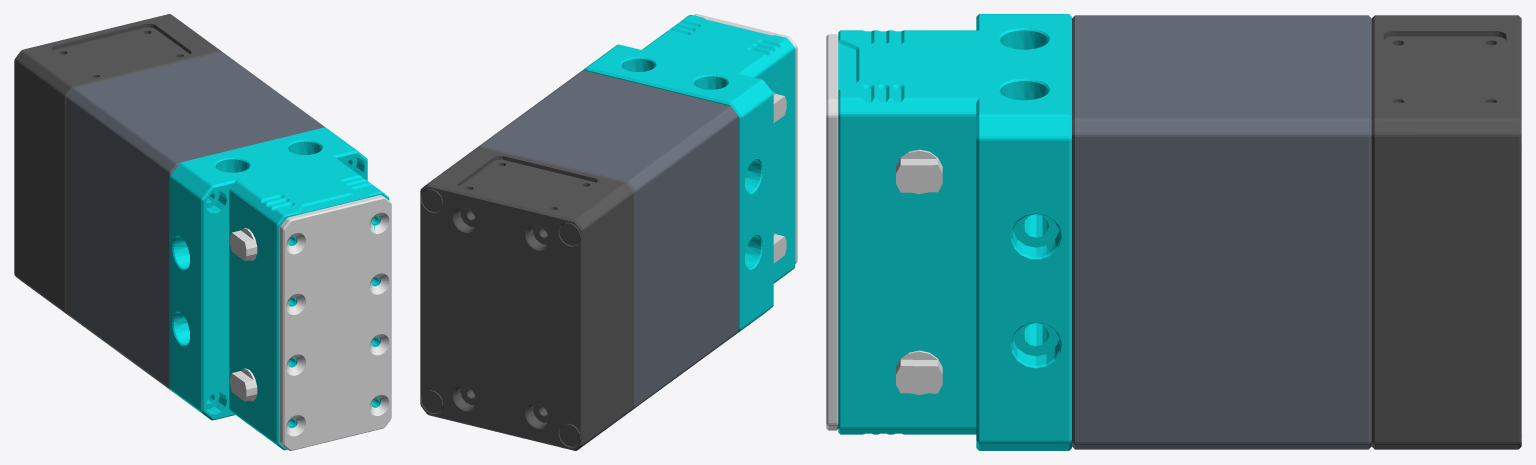
The picture shows the model from 3 angles, left to right: view 1: azimuth 30°, elevation 25°; view 2: azimuth 150°, elevation 25°; view 3: azimuth 270°, elevation 25°; orthographic projection. The views are drawn at different scales.
Parts seen in each view (by area): view 1: body.001, body, body.002; view 2: body.002, body, body.001; view 3: body, body.001, body.002.
Part boxes in pixels (x1,y1,x2,y2): body.001: (169,127,391,450); body: (66,52,325,392); body.002: (14,14,222,316); body.002: (420,147,633,450); body: (478,70,738,411); body.001: (582,14,797,336); body: (1072,15,1371,449); body.001: (826,14,1071,450); body.002: (1371,15,1521,449).
Size of the model in its own units: 0.046 by 0.062 by 0.116.
